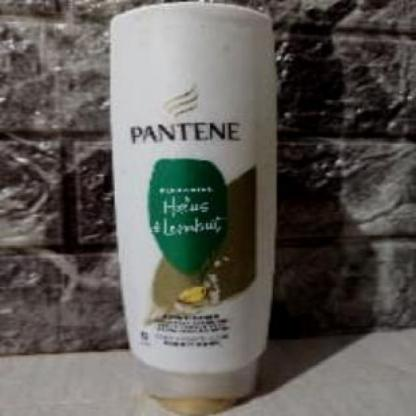objects: (109, 0, 281, 416)
